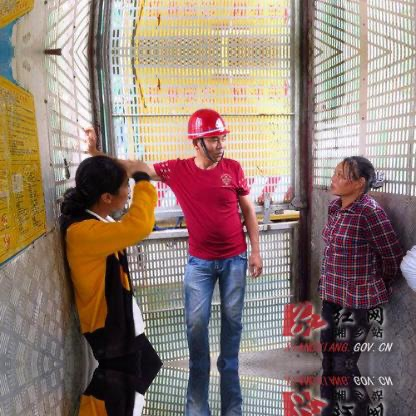No Safety Helmet: (54, 152, 139, 237), (324, 152, 388, 206)
Safety Helmet: (181, 105, 234, 166)
